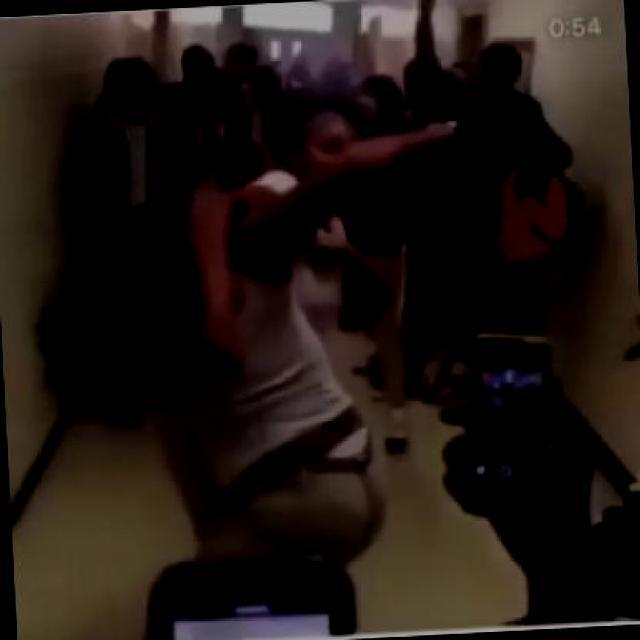fight: (29, 103, 474, 571)
